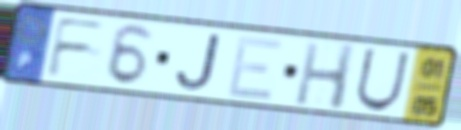6: (103, 22, 155, 87)
E: (224, 34, 286, 103)
F: (44, 16, 110, 80)
H: (292, 40, 359, 113)
J: (173, 32, 225, 93)
U: (352, 46, 413, 113)
